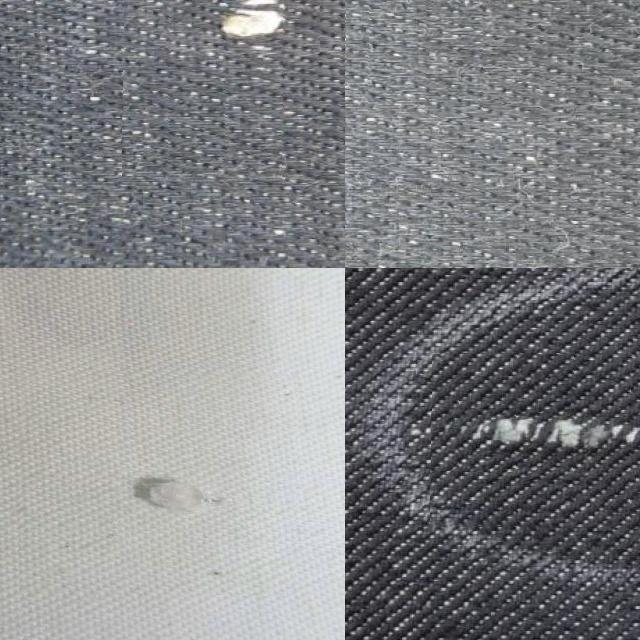stains: (18, 370, 296, 594), (122, 0, 345, 184), (429, 354, 640, 529), (345, 0, 640, 119)
